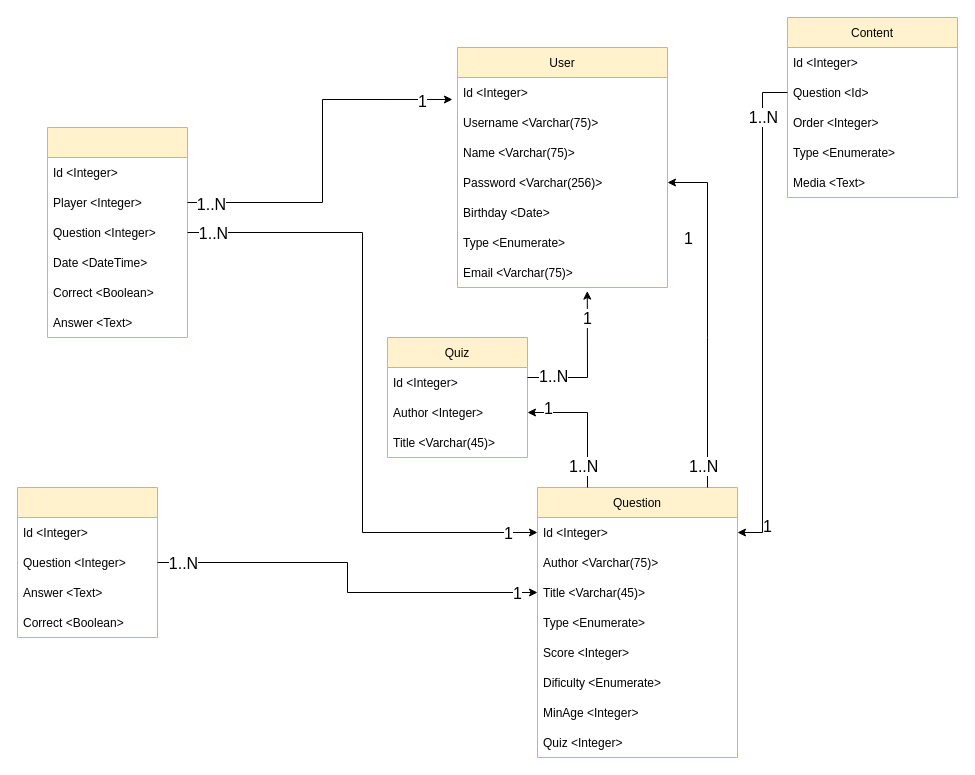
Some shapes in this 975 by 775 pixel diagram are drawn without their labels. The box of each missing label's shape, as (x1, y1, x2, y2) in pixels:
History: (46, 126, 188, 338)
Option: (16, 486, 158, 638)
